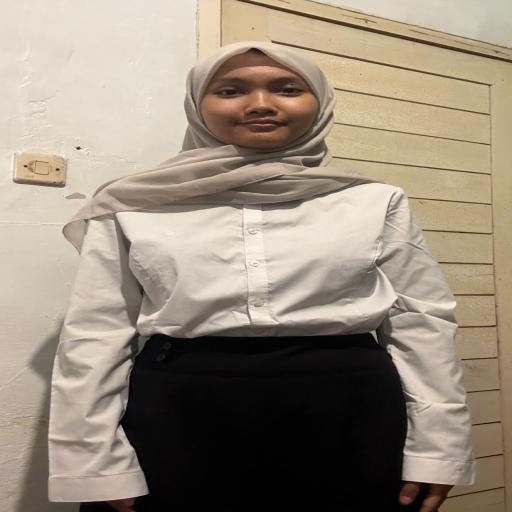kemeja_benar: (64, 188, 434, 337)
kerudung_salah: (133, 39, 380, 202)
rok_benar: (118, 335, 414, 512)
